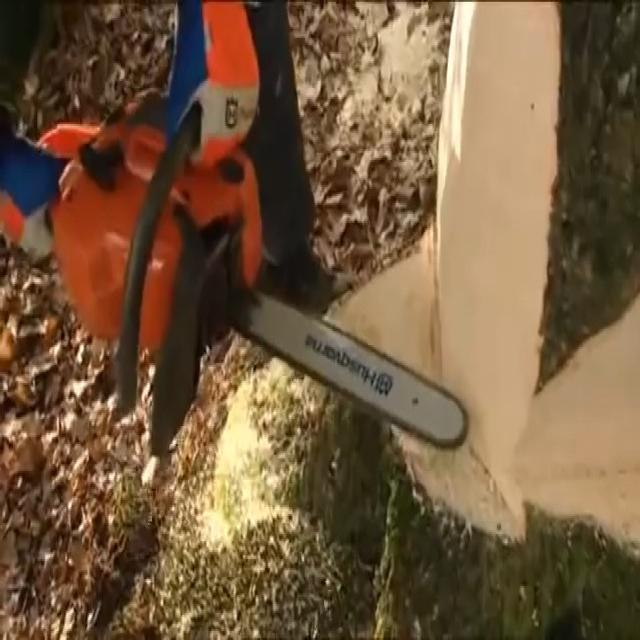Chainsaw: (16, 85, 482, 492)
